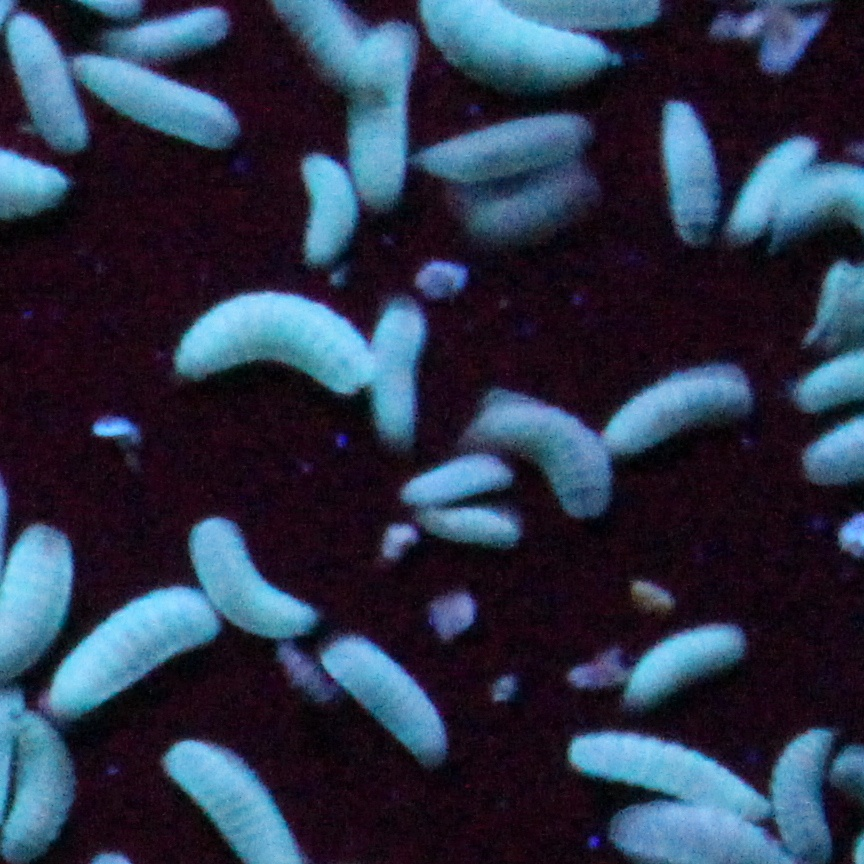larve: (175, 294, 369, 400), (49, 594, 210, 713), (562, 735, 769, 825), (482, 389, 600, 520), (323, 635, 439, 766), (189, 510, 310, 628), (607, 359, 749, 459), (80, 61, 239, 146), (2, 10, 84, 153), (416, 112, 585, 181), (462, 164, 597, 248), (623, 613, 741, 704), (731, 131, 818, 249), (354, 20, 405, 213), (652, 99, 716, 241), (371, 297, 430, 441), (300, 156, 351, 271), (393, 451, 508, 500), (412, 508, 521, 549)
